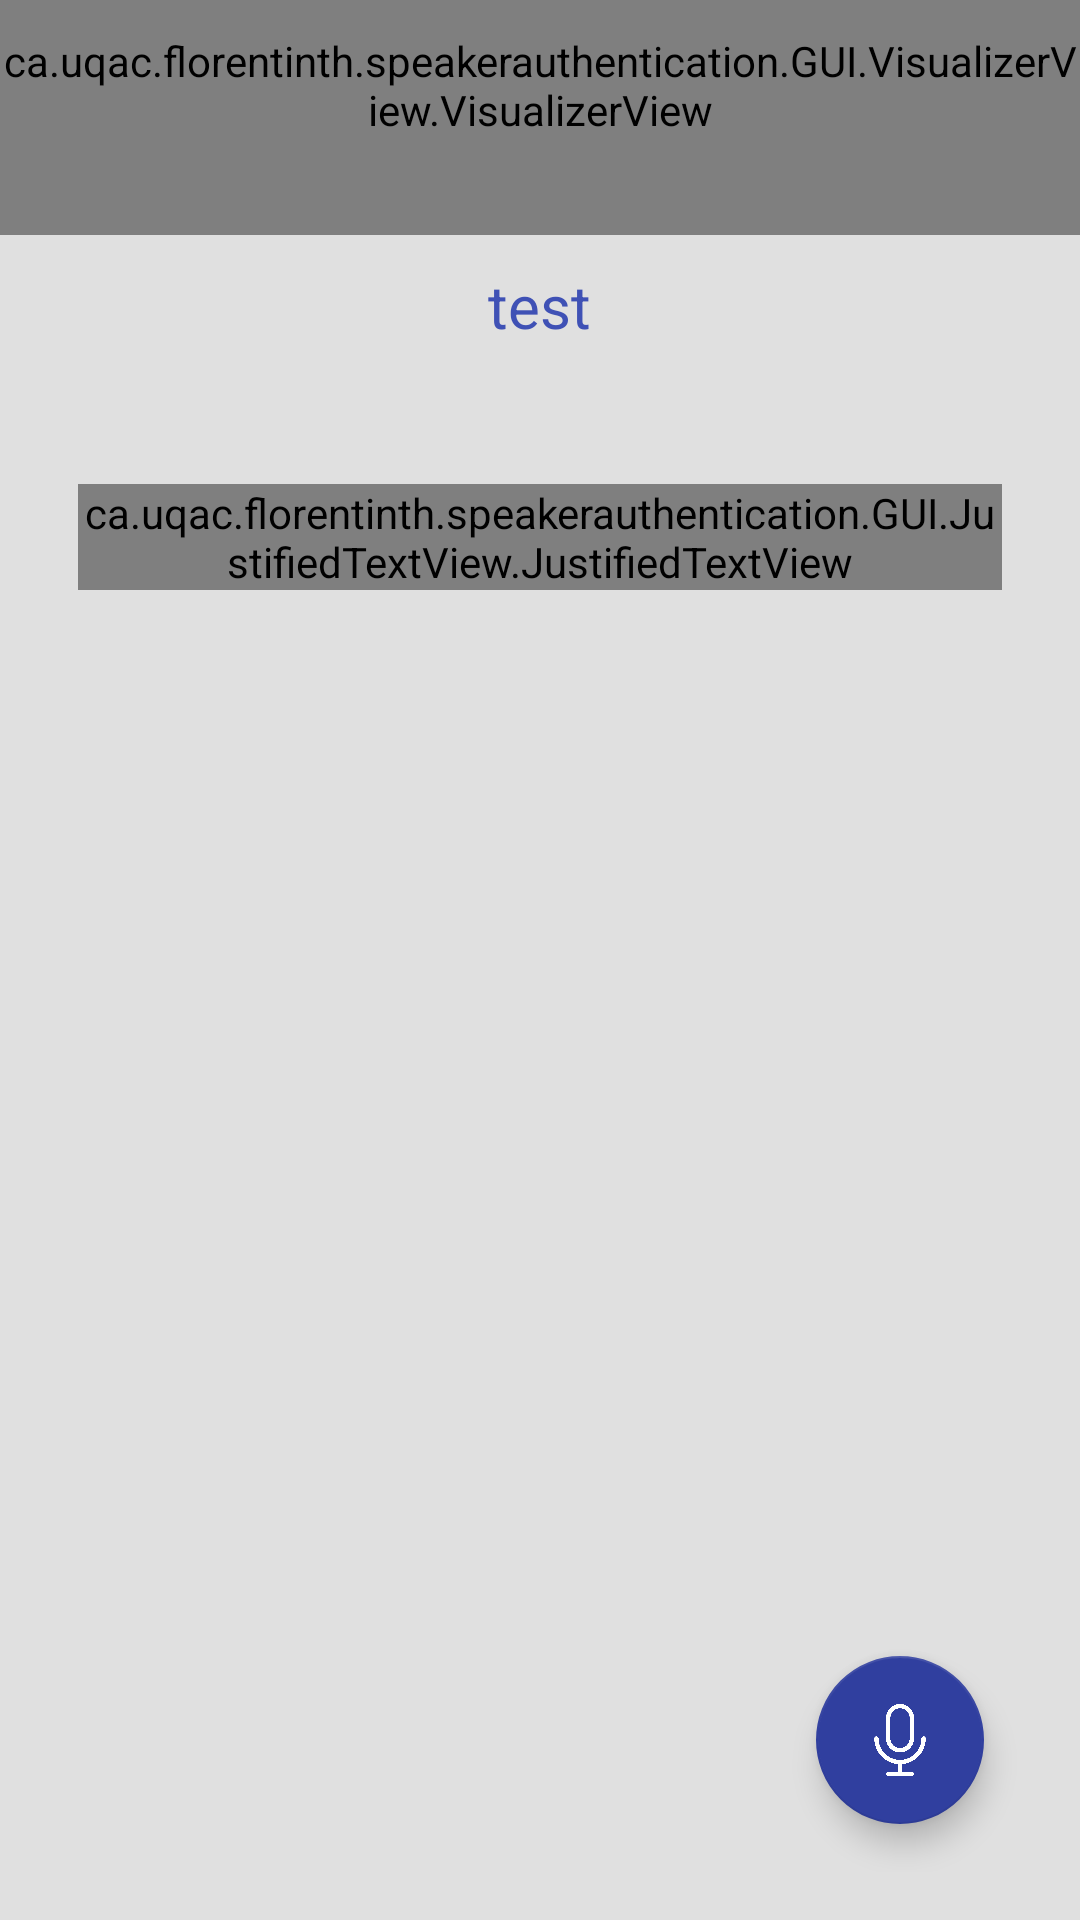

Point at icon controls on the screen. Image size 1080 × 1920, points as (x,y).
record: (900,1740)
